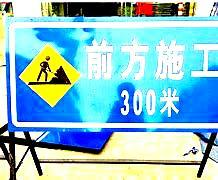sign: (8, 21, 218, 129)
